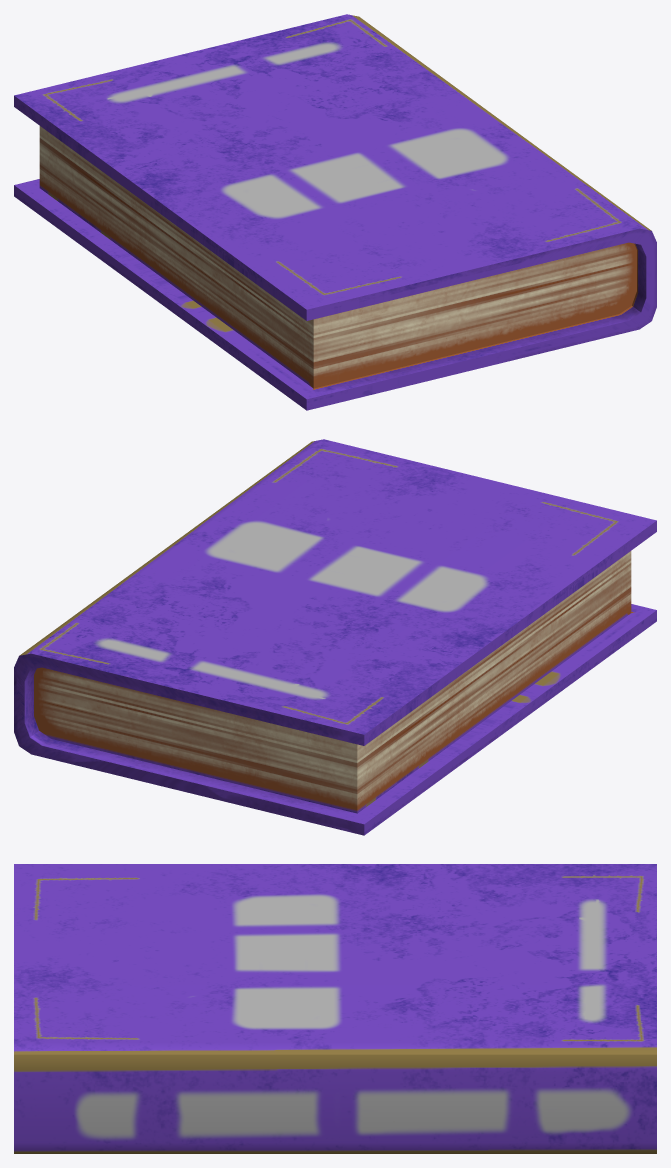
Rendered from BigBook_Textured.fbx.
The picture shows the model from 3 angles, top to bottom: view 1: azimuth 30°, elevation 25°; view 2: azimuth 150°, elevation 25°; view 3: azimuth 270°, elevation 25°; orthographic projection. The views are drawn at different scales.
Visible parts, largest first — view 1: PR_Bookspine_01, PR_Paper; view 2: PR_Bookspine_01, PR_Paper; view 3: PR_Bookspine_01.
Part boxes in pixels (x1,y1,x2,y2): PR_Bookspine_01: (14, 14, 656, 410); PR_Paper: (39, 126, 636, 388); PR_Bookspine_01: (14, 439, 656, 835); PR_Paper: (34, 551, 631, 813); PR_Bookspine_01: (14, 864, 656, 1153).
Size of the model in its own units: 8.24 by 2.27 by 11.92.
Materials: 1 (1 with a texture image).
